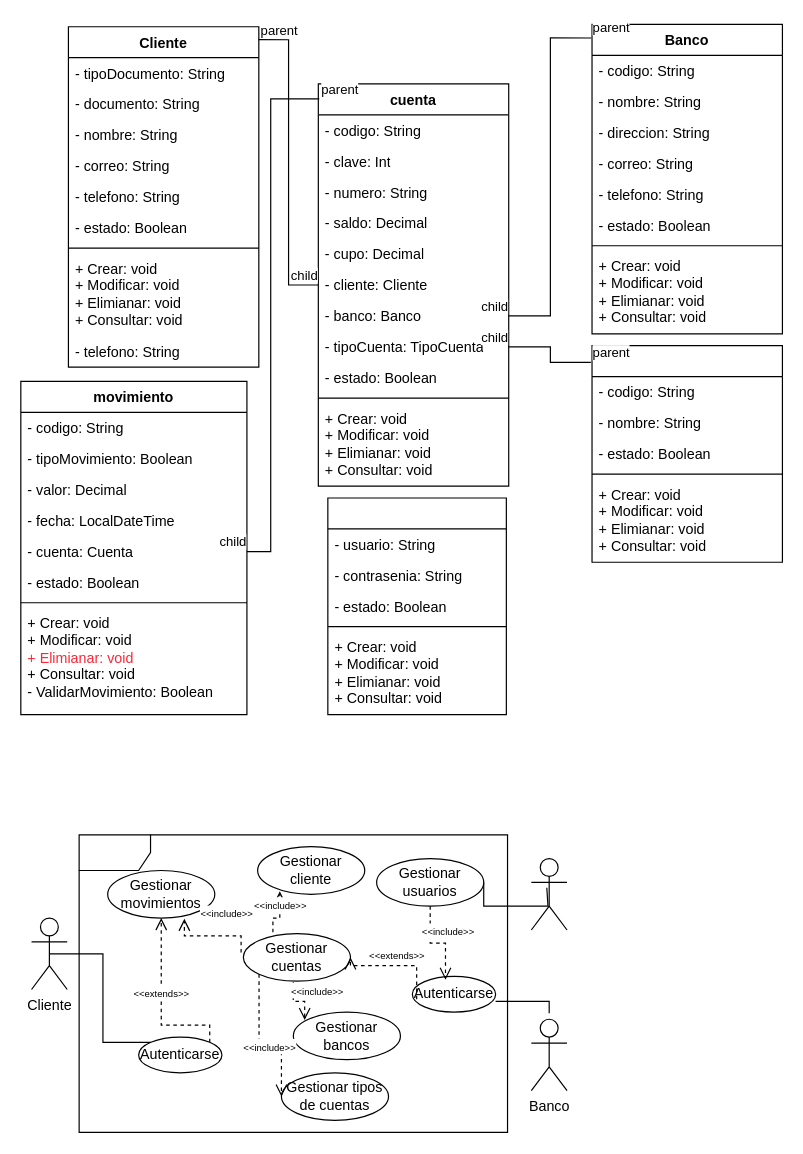
This 803x1154 diagram has some shape labels left out. Here are the shapes that lost their labels. From the top down, the box of each, then its label:
(591, 345, 782, 562): TipoCuenta
(327, 497, 506, 715): UsuarioBanco
(530, 857, 567, 930): Admin
(78, 834, 508, 1132): Cajero
